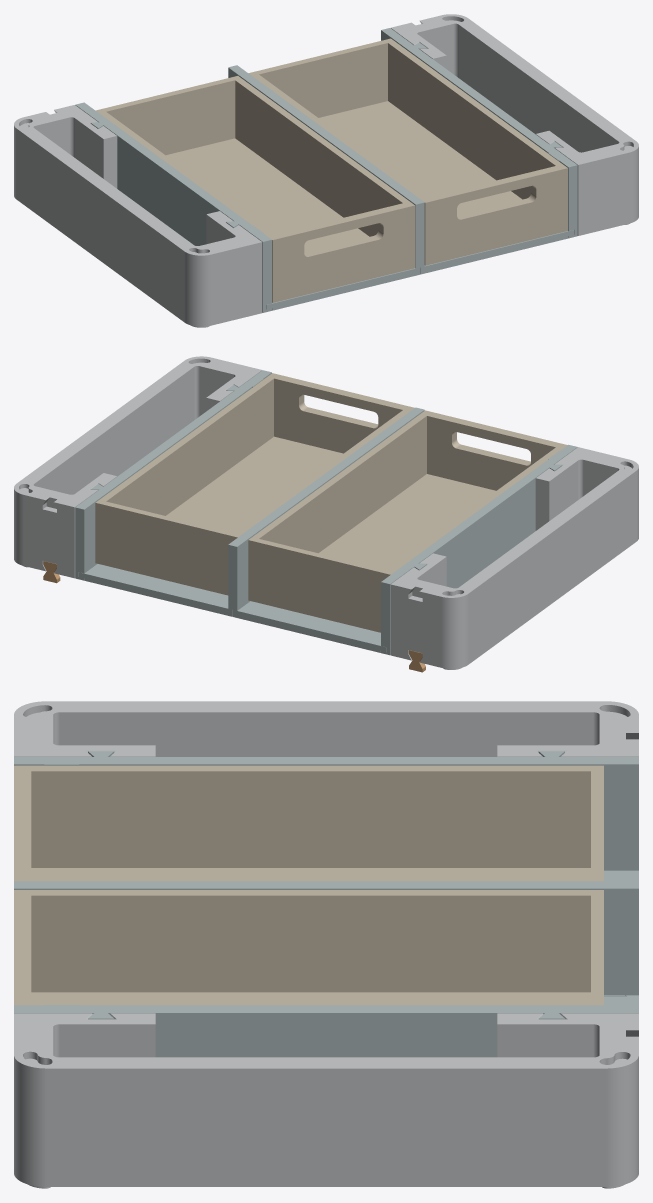
File: layer-assembly.glb
The picture shows the model from 3 angles, top to bottom: view 1: azimuth 30°, elevation 25°; view 2: azimuth 150°, elevation 25°; view 3: azimuth 270°, elevation 25°; orthographic projection. The views are drawn at different scales.
Parts seen in each view (by area): view 1: drawer_2, drawer_1, end_left_1, end_right_1, side_left, side_right, divider_1, front_beam_2, front_beam_1; view 2: drawer_2, drawer_1, end_left_1, end_right_1, side_left, side_right, divider_1, rear_beam_2, rear_beam_1; view 3: end_right_1, drawer_1, drawer_2, end_left_1, side_right, side_left, divider_1.
Part boxes in pixels (x1,y1,x2,y2): drawer_2: (248,38,567,265); drawer_1: (96,76,415,302); end_left_1: (14,105,262,327); end_right_1: (391,14,638,235); side_left: (75,102,271,312); side_right: (381,28,577,238); divider_1: (228,65,424,268); front_beam_2: (420,230,574,274); front_beam_1: (266,267,420,310); drawer_2: (95,373,414,595); drawer_1: (248,410,567,632); end_left_1: (390,447,638,669); end_right_1: (14,356,262,578); side_left: (381,444,577,655); side_right: (75,370,271,580); divider_1: (228,407,424,610); rear_beam_2: (78,564,232,616); rear_beam_1: (232,601,386,652); end_right_1: (14,1013,638,1188); drawer_1: (14,765,603,881); drawer_2: (14,890,603,1005); end_left_1: (14,701,638,756); side_right: (14,1005,638,1057); side_left: (14,751,638,870); divider_1: (14,881,638,995).
Bounding box in the file's own units: 0.399 × 0.068 × 0.287.
